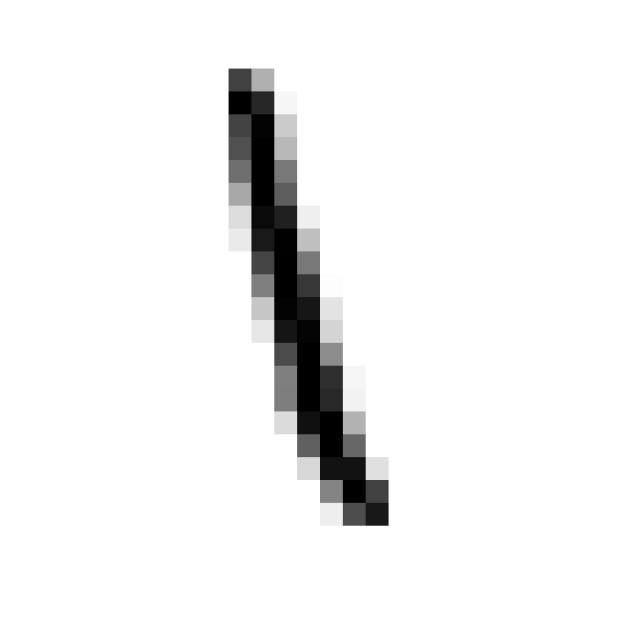1 -one-: (203, 48, 411, 548)
